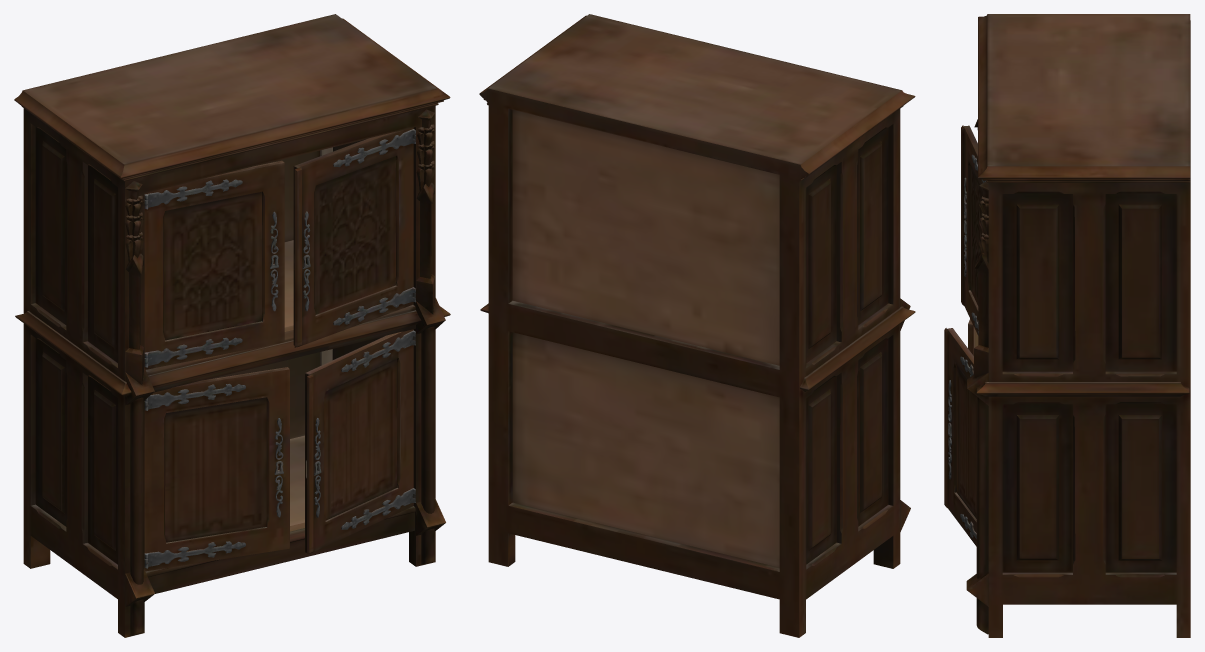
The model's file is GothicCabinet_01.0ae0f616.glb.
The picture shows the model from 3 angles, left to right: view 1: azimuth 30°, elevation 25°; view 2: azimuth 150°, elevation 25°; view 3: azimuth 270°, elevation 25°; orthographic projection.
Parts seen in each view (by area): view 1: GothicCabinet_01_cabinet, GothicCabinet_01_door3, GothicCabinet_01_door1, GothicCabinet_01_door2, GothicCabinet_01_door4; view 2: GothicCabinet_01_cabinet; view 3: GothicCabinet_01_cabinet, GothicCabinet_01_door4, GothicCabinet_01_door2.
Part boxes in pixels (x1=…): GothicCabinet_01_cabinet: x1=14, y1=14, x2=450, y2=637; GothicCabinet_01_door3: x1=144, y1=367, x2=289, y2=571; GothicCabinet_01_door1: x1=144, y1=160, x2=284, y2=369; GothicCabinet_01_door2: x1=293, y1=127, x2=415, y2=347; GothicCabinet_01_door4: x1=305, y1=329, x2=415, y2=554; GothicCabinet_01_cabinet: x1=479, y1=14, x2=915, y2=637; GothicCabinet_01_cabinet: x1=966, y1=14, x2=1190, y2=637; GothicCabinet_01_door4: x1=944, y1=328, x2=976, y2=546; GothicCabinet_01_door2: x1=961, y1=125, x2=986, y2=335.
Bounding box in the file's own units: 0.7281 × 1 × 0.4729.
Materials: 1 (1 with a texture image).
